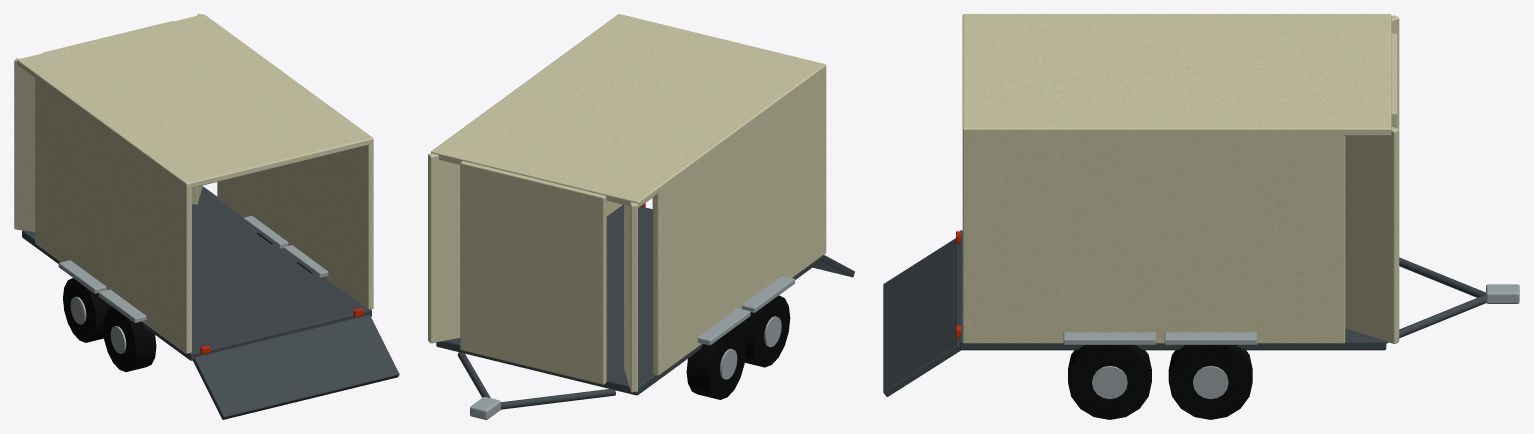
The model's file is LandscapeTrailer.gltf.
3 renders of one model, left to right at view 1: azimuth 30°, elevation 25°; view 2: azimuth 150°, elevation 25°; view 3: azimuth 270°, elevation 25°, orthographic. The views are drawn at different scales.
Parts seen in each view (by area): view 1: LandscapeTrailer__Body; view 2: LandscapeTrailer__Body; view 3: LandscapeTrailer__Body.
Part boxes in pixels (x1,y1,x2,y2): LandscapeTrailer__Body: [14, 14, 399, 419]; LandscapeTrailer__Body: [428, 14, 854, 419]; LandscapeTrailer__Body: [883, 14, 1519, 419].
Bounding box in the file's own units: 2.04 × 2.1 × 4.24.
2 materials, 1 textured.
